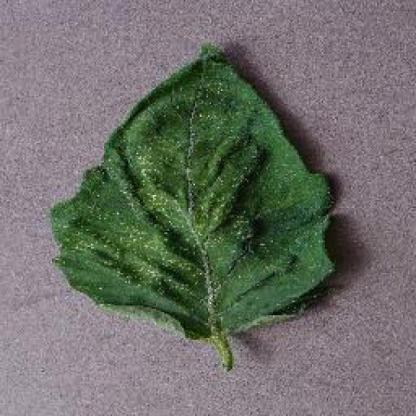Tomato_Spider_Mites: (52, 46, 333, 334)
